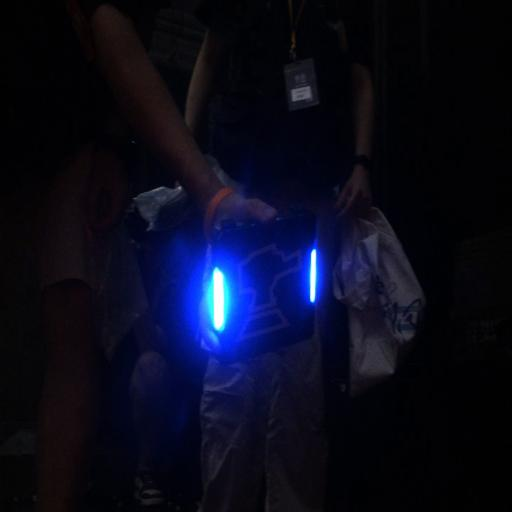target: (208, 226, 322, 352)
